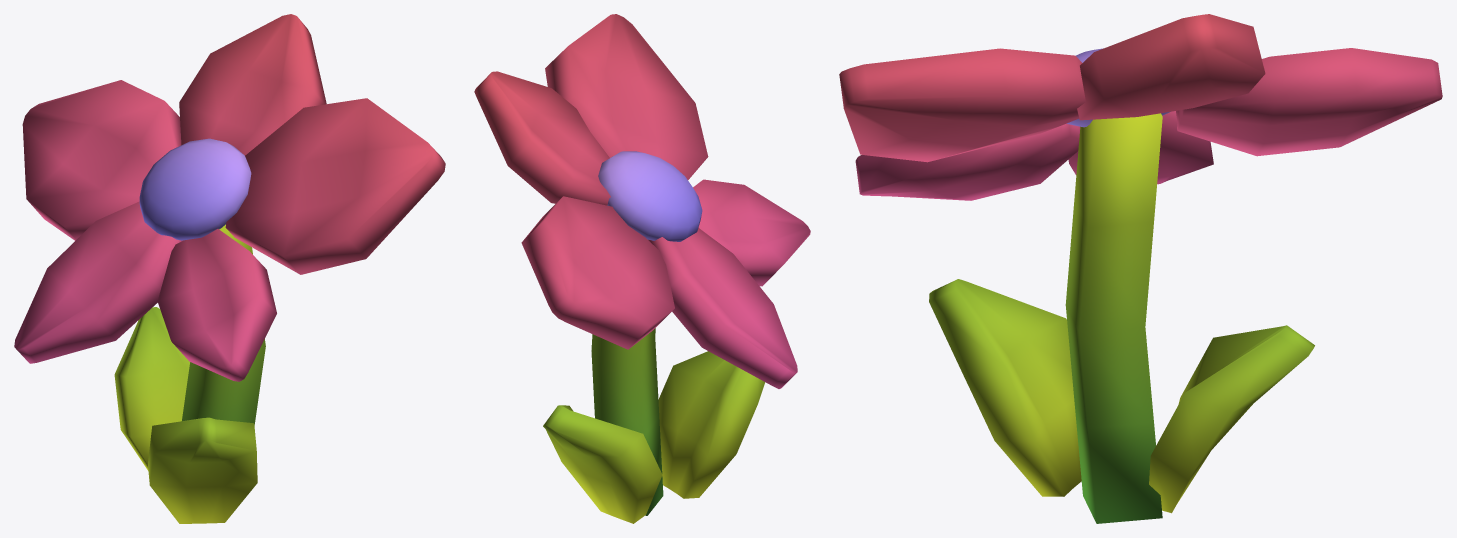
File: flower_RedBlue_small.fbx
The picture shows the model from 3 angles, left to right: view 1: azimuth 30°, elevation 25°; view 2: azimuth 150°, elevation 25°; view 3: azimuth 270°, elevation 25°; orthographic projection. The views are drawn at different scales.
Visible parts, largest first — view 1: flower_RedBlue_small; view 2: flower_RedBlue_small; view 3: flower_RedBlue_small.
Boxes of the visible parts, box(x1,y1,x2,y2) form: flower_RedBlue_small: box(14, 14, 445, 523); flower_RedBlue_small: box(474, 14, 810, 523); flower_RedBlue_small: box(839, 14, 1442, 523).
Size of the model in its own units: 44.18 by 57.9 by 56.06.
